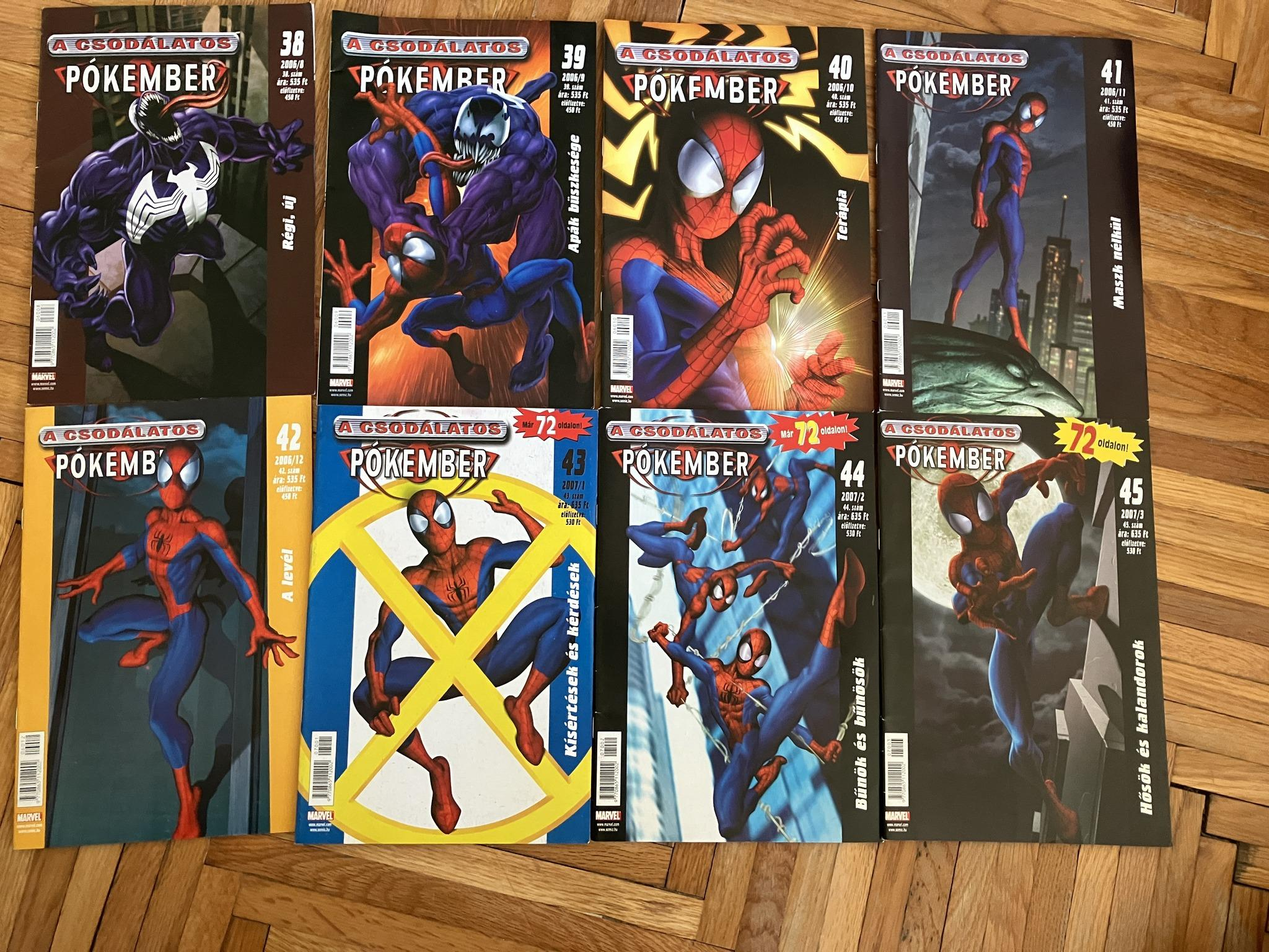comic: (12, 387, 314, 857), (296, 404, 600, 849), (592, 407, 887, 845), (878, 410, 1169, 849), (318, 11, 606, 412), (28, 4, 315, 405), (601, 20, 874, 410), (877, 30, 1148, 420)
